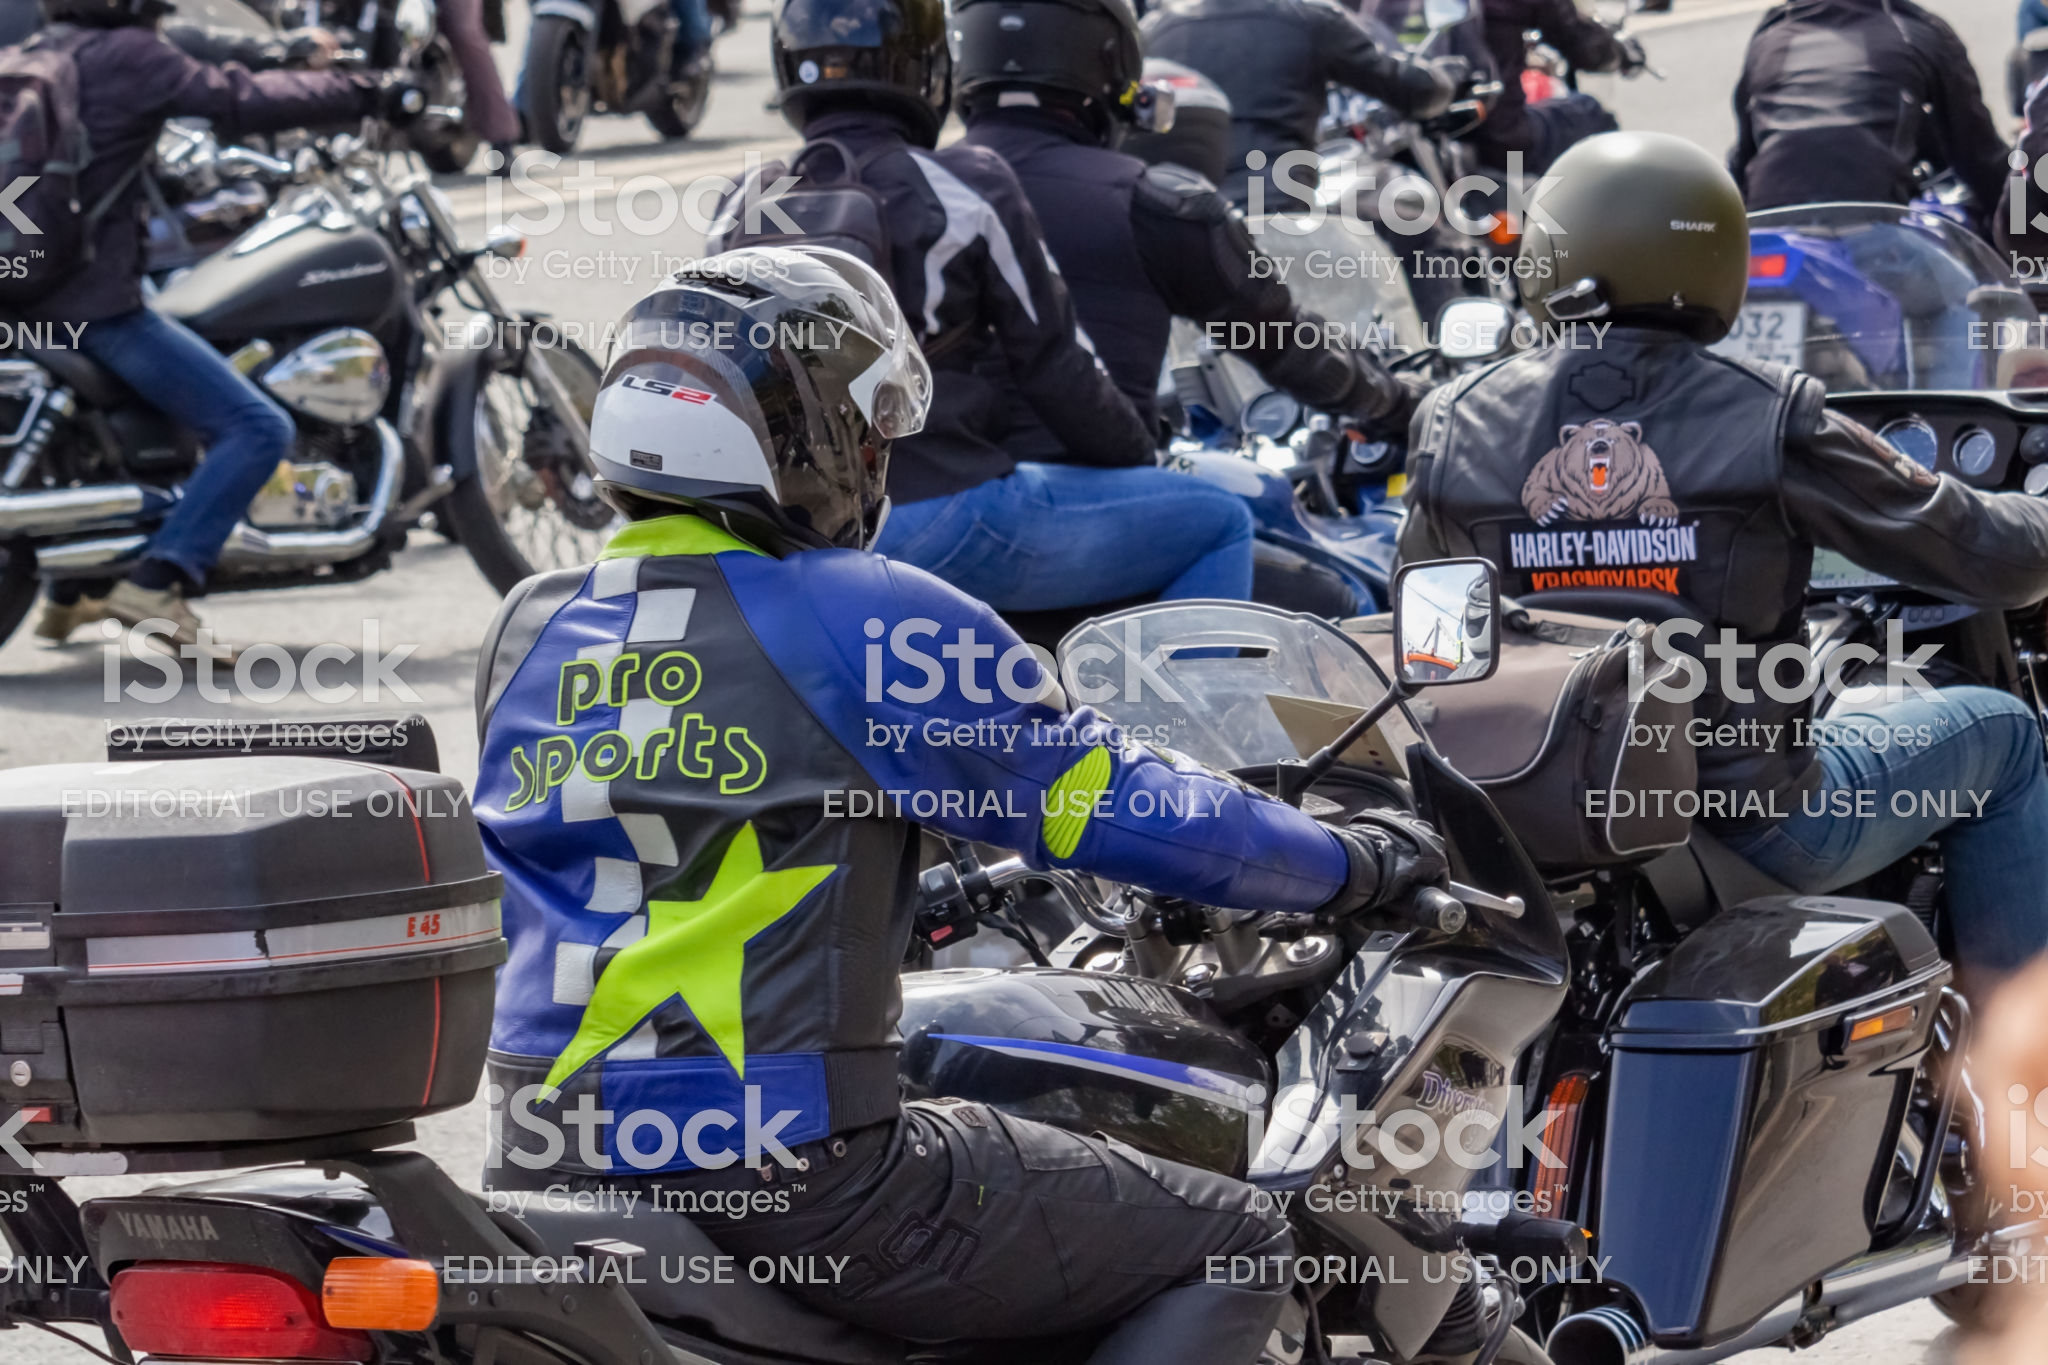helmet: (579, 267, 927, 561), (1514, 142, 1772, 341), (755, 2, 978, 140)
